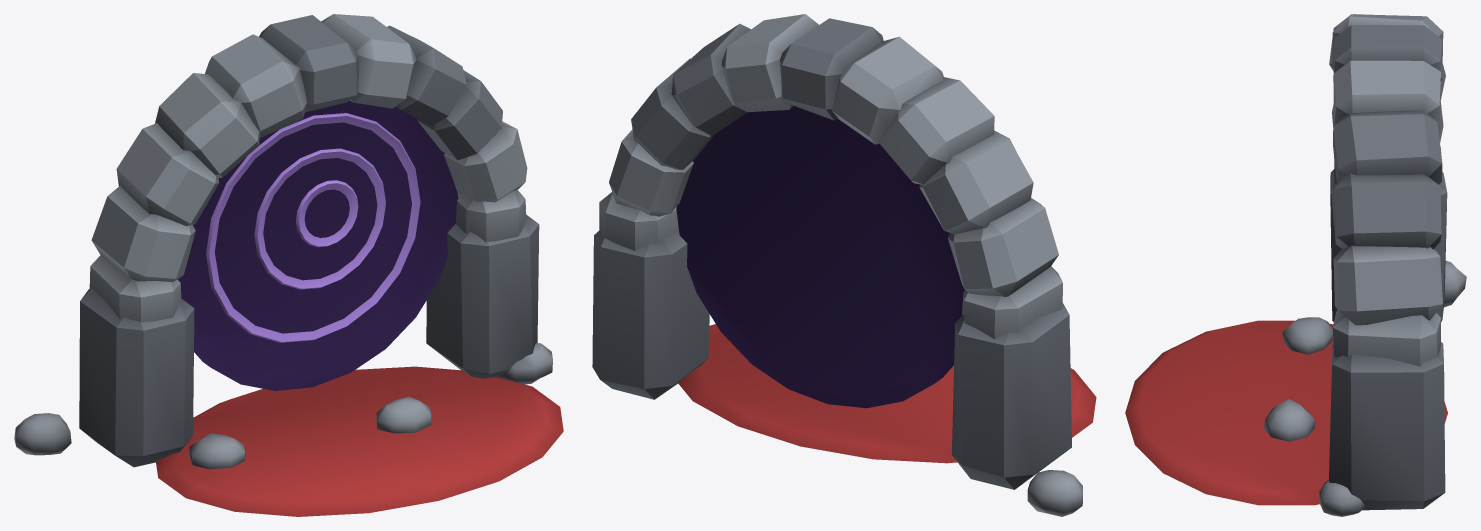
Rendered from spawn_portal.glb.
The picture shows the model from 3 angles, left to right: view 1: azimuth 30°, elevation 25°; view 2: azimuth 150°, elevation 25°; view 3: azimuth 270°, elevation 25°; orthographic projection. The views are drawn at different scales.
Parts seen in each view (by area): view 1: Portal; view 2: Portal; view 3: Portal.
Part boxes in pixels (left/top/right/bottom): Portal: left=14, top=14, right=563, bottom=516; Portal: left=592, top=14, right=1096, bottom=516; Portal: left=1125, top=14, right=1466, bottom=516.
Size of what is drawn, in the model's own units: 1.41 by 1.06 by 0.8464.
1 material, 1 textured.
